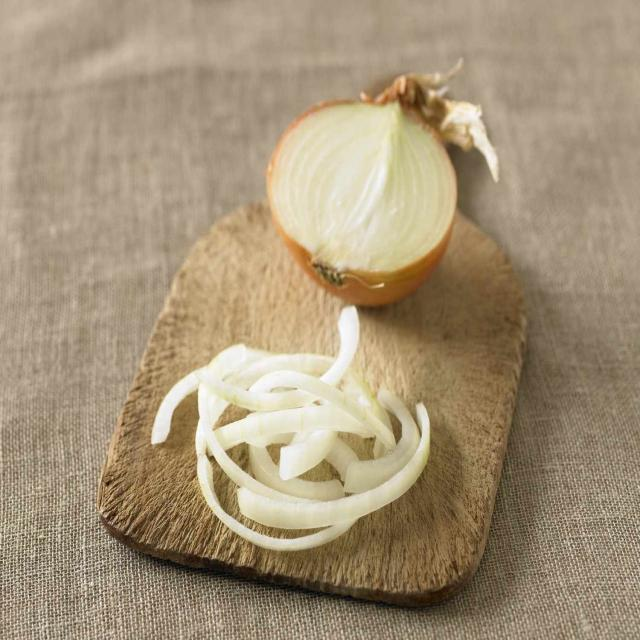onion: (149, 315, 459, 556), (264, 69, 500, 310)
